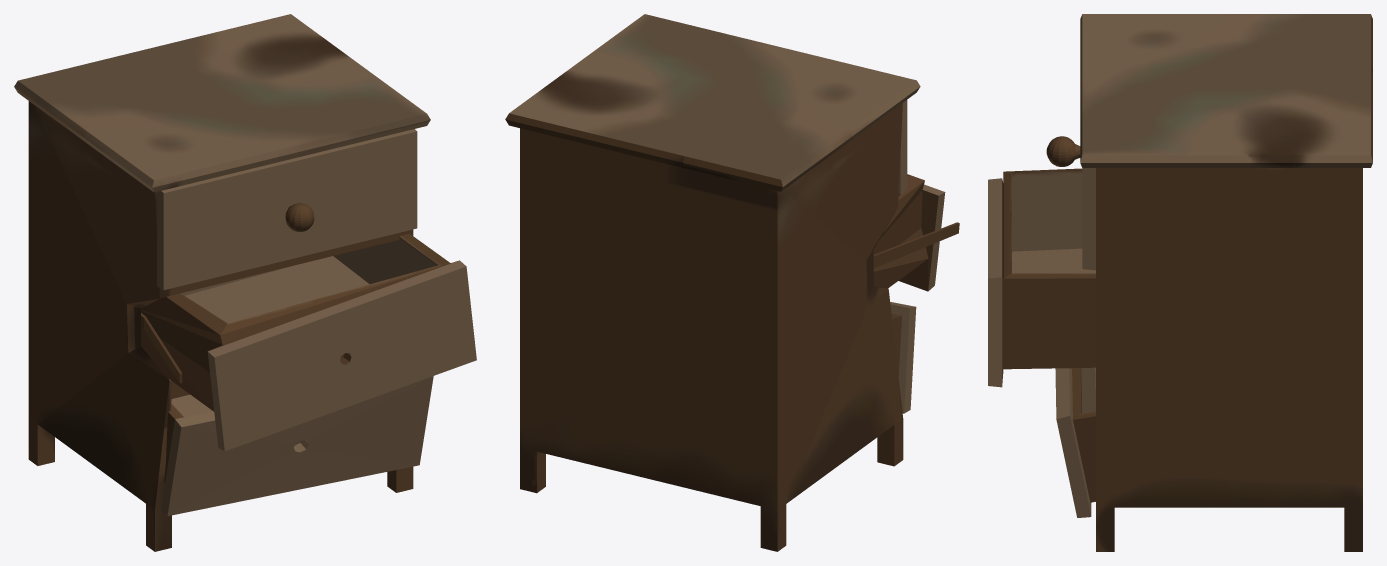
The model's file is Cajonera.fbx.
3 views of the same model, side by side, from view 1: azimuth 30°, elevation 25°; view 2: azimuth 150°, elevation 25°; view 3: azimuth 270°, elevation 25° (orthographic). The views are drawn at different scales.
Parts seen in each view (by area): view 1: Cajonera, Cajon1; view 2: Cajonera, Cajon1; view 3: Cajonera, Cajon1.
Boxes of the visible parts, box(x1,y1,x2,y2) form: Cajonera: box(14, 14, 476, 551); Cajon1: box(157, 129, 417, 289); Cajonera: box(505, 14, 959, 551); Cajon1: box(898, 100, 907, 195); Cajonera: box(988, 14, 1372, 551); Cajon1: box(1046, 136, 1095, 270).
Bounding box in the file's own units: 219 × 276 × 240.
